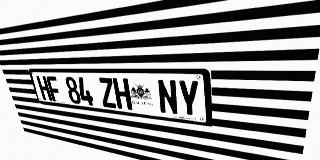4: (76, 77, 94, 106)
8: (64, 77, 82, 104)
F: (46, 76, 63, 102)
H: (112, 78, 133, 110), (36, 76, 52, 101)
N: (156, 79, 179, 115)
Y: (177, 80, 200, 118)
Z: (98, 78, 117, 108)
